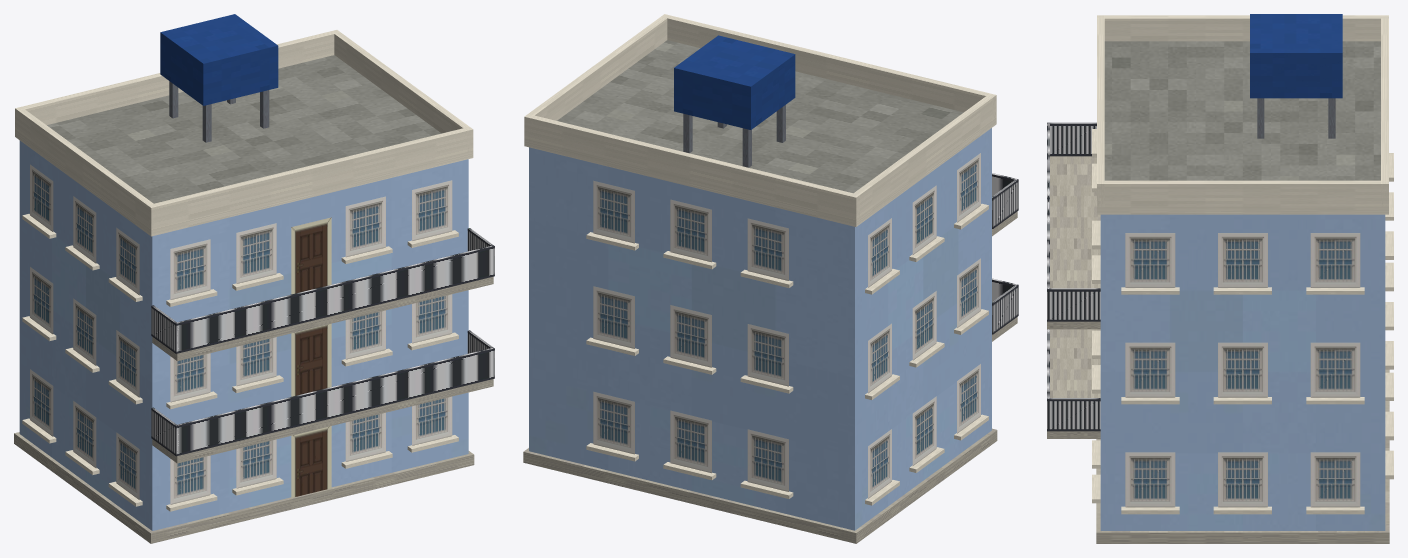
The model's file is flats-sky.glb.
3 renders of one model, left to right at view 1: azimuth 30°, elevation 25°; view 2: azimuth 150°, elevation 25°; view 3: azimuth 270°, elevation 25°, orthographic. The views are drawn at different scales.
Visible parts, largest first — view 1: flats-sky; view 2: flats-sky; view 3: flats-sky.
Part boxes in pixels (x1,y1,x2,y2): flats-sky: [14, 14, 494, 543]; flats-sky: [523, 14, 1018, 543]; flats-sky: [1047, 14, 1393, 543].
Bounding box in the file's own units: 11.48 × 13.2 × 9.74.
Materials: 1 (1 with a texture image).
